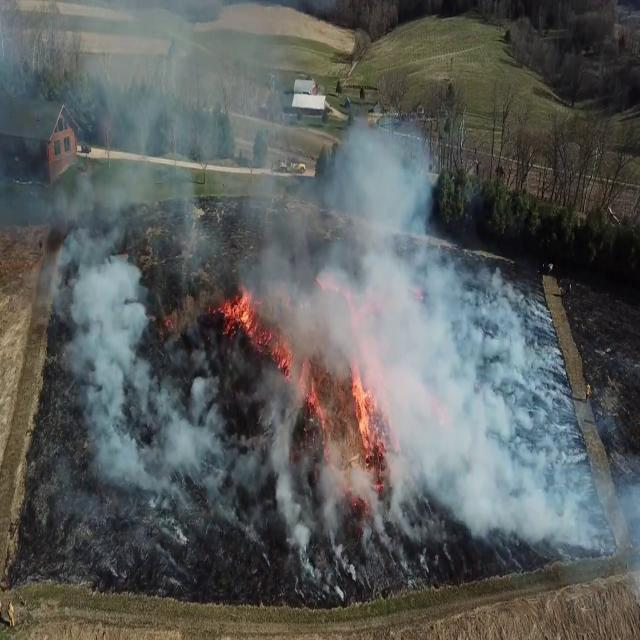Fire: (276, 332, 332, 428), (342, 358, 386, 470), (216, 283, 264, 338)
Smoke: (6, 26, 327, 546), (314, 94, 614, 586)
